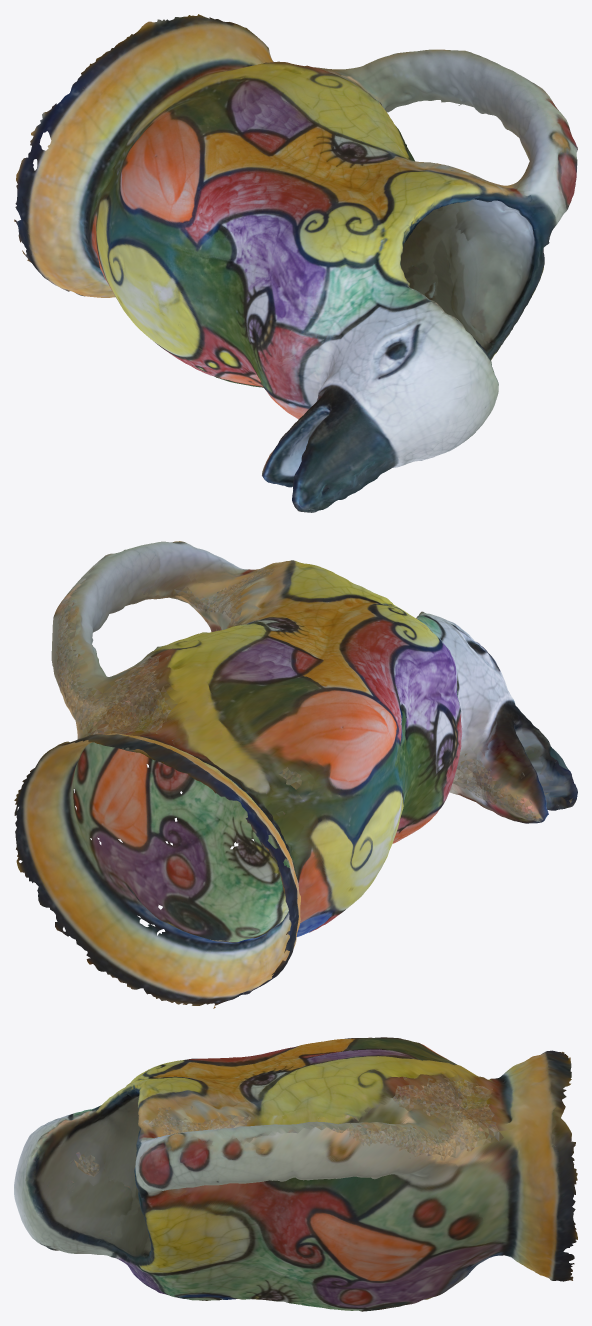
The model's file is jarra_pinguino.glb.
3 views of the same model, one above another, from view 1: azimuth 30°, elevation 25°; view 2: azimuth 150°, elevation 25°; view 3: azimuth 270°, elevation 25° (orthographic). The views are drawn at different scales.
Parts seen in each view (by area): view 1: Stereo textured mesh; view 2: Stereo textured mesh; view 3: Stereo textured mesh.
Part boxes in pixels (x1,y1,x2,y2): Stereo textured mesh: (14,14,577,512); Stereo textured mesh: (14,541,577,1008); Stereo textured mesh: (14,1037,577,1311).
Size of the model in its own units: 677 by 510 by 1000.
1 material, 1 textured.
